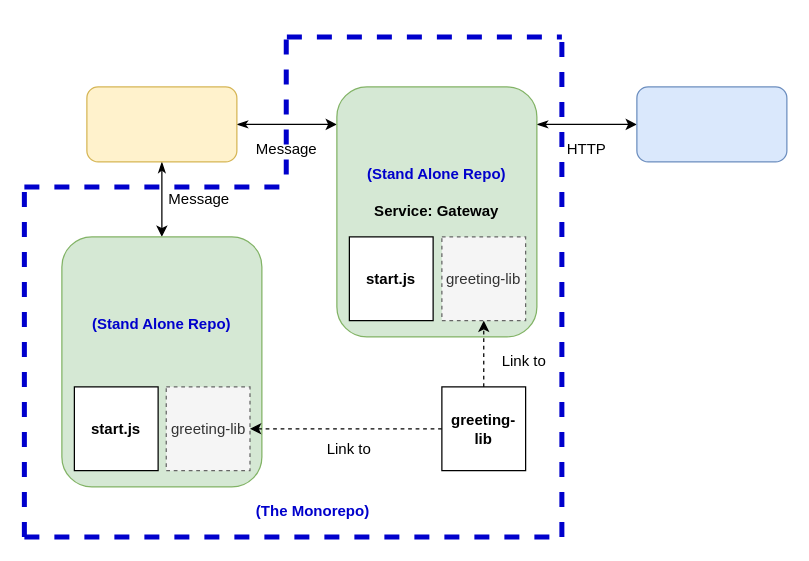
Some shapes in this 809 by 561 pixel diagram are drawn without their labels. Each missing label, with the box of its shape:
Client: (636, 86, 787, 162)
NATS: (86, 86, 237, 162)
Service: Greeter: (61, 236, 262, 487)
